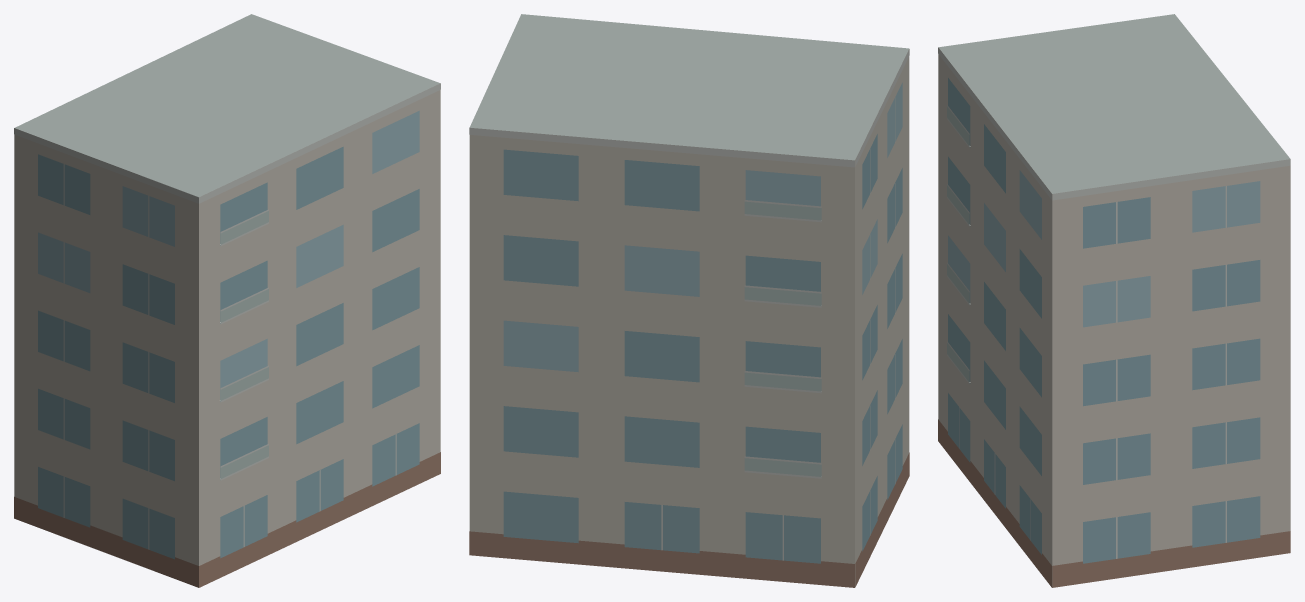
Rendered from survey-upis-32569032.glb.
3 renders of one model, left to right at view 1: azimuth 30°, elevation 25°; view 2: azimuth 150°, elevation 25°; view 3: azimuth 270°, elevation 25°, orthographic. The views are drawn at different scales.
Parts seen in each view (by area): view 1: survey-upis-32569032.tmp; view 2: survey-upis-32569032.tmp; view 3: survey-upis-32569032.tmp.
Part boxes in pixels (<box>): survey-upis-32569032.tmp: <box>14,14,440,587</box>; survey-upis-32569032.tmp: <box>469,14,909,587</box>; survey-upis-32569032.tmp: <box>938,14,1290,587</box>.
Size of the model in its own units: 14.39 by 14.68 by 11.91.
